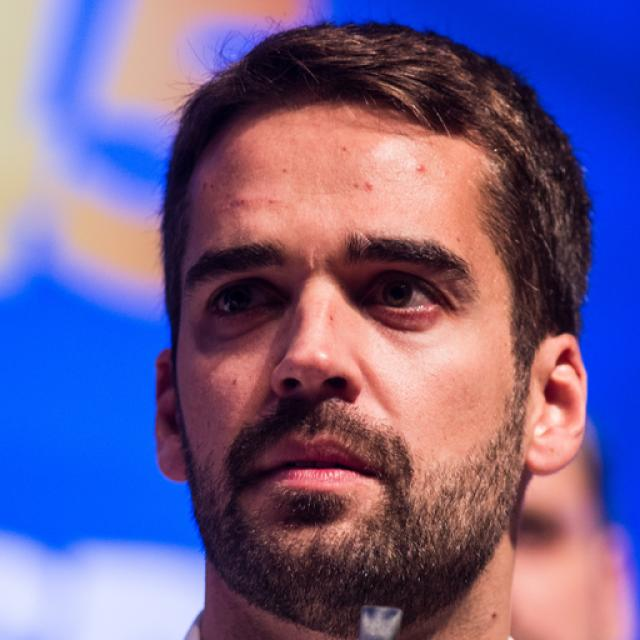Acne: (405, 159, 430, 184), (361, 180, 377, 196)
Spots: (214, 186, 248, 214), (260, 193, 286, 217), (270, 161, 292, 183), (319, 309, 339, 331), (337, 141, 352, 160)
